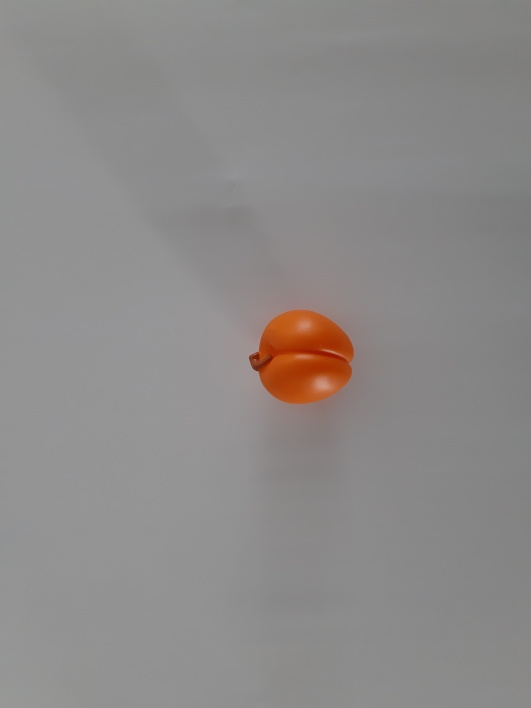apricot: (231, 299, 377, 427)
